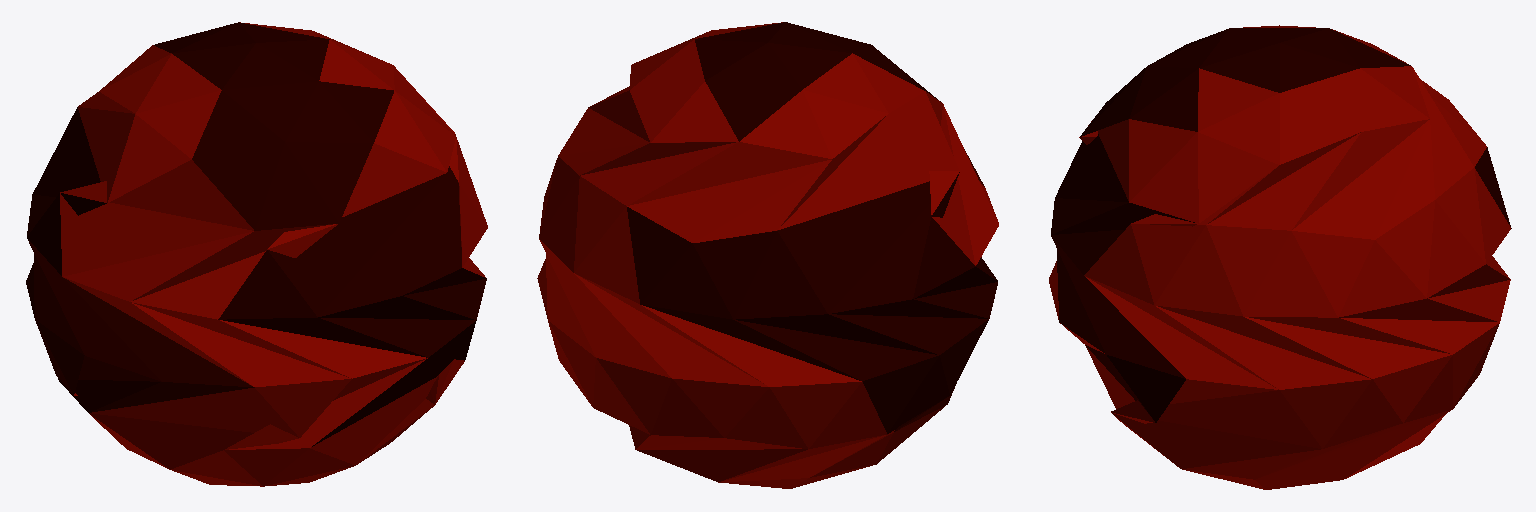
The model's file is Mars_1239.obj.
3 renders of one model, left to right at view 1: azimuth 30°, elevation 25°; view 2: azimuth 150°, elevation 25°; view 3: azimuth 270°, elevation 25°, orthographic.
Visible parts, largest first — view 1: Object.1; view 2: Object.1; view 3: Object.1.
Part boxes in pixels (x1,y1,x2,y2): Object.1: (26, 22, 487, 486); Object.1: (537, 22, 998, 488); Object.1: (1049, 25, 1511, 489).
Bounding box in the file's own units: 59.57 × 60.43 × 59.5.